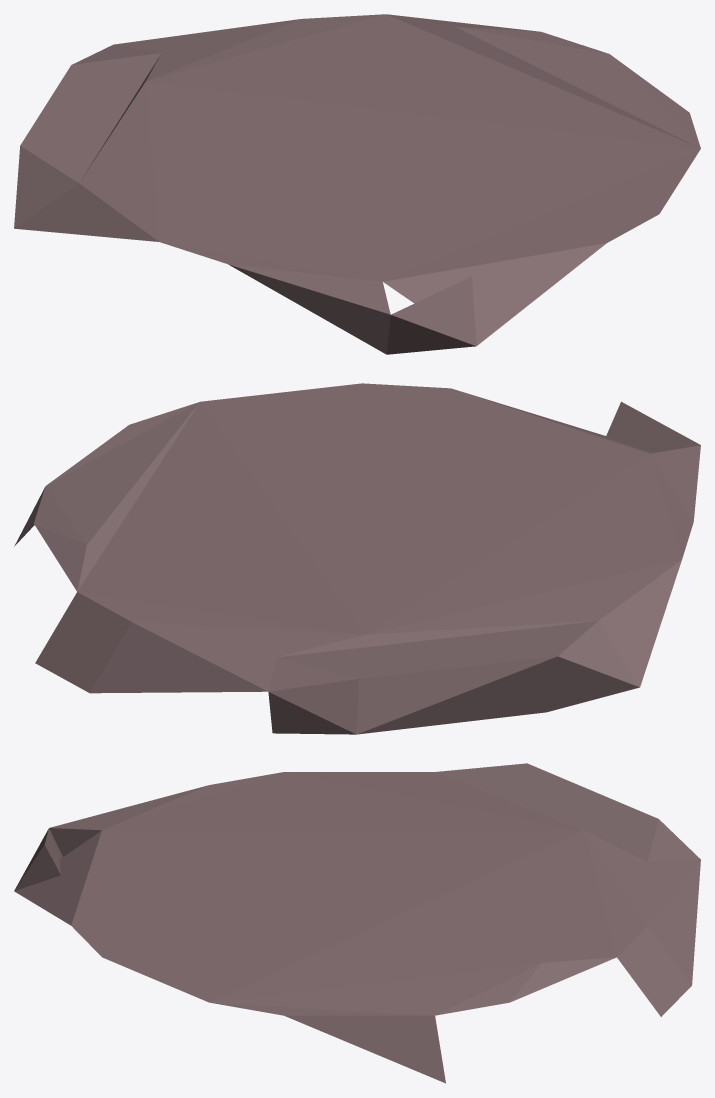
Rendered from trampoline.lod2.glb.
3 views of the same model, one above another, from view 1: azimuth 30°, elevation 25°; view 2: azimuth 150°, elevation 25°; view 3: azimuth 270°, elevation 25° (orthographic). The views are drawn at different scales.
Parts seen in each view (by area): view 1: 0; view 2: 0; view 3: 0.
Part boxes in pixels (box(x1,y1,x2,y2)): 0: box(14, 14, 700, 354); 0: box(14, 383, 700, 734); 0: box(14, 763, 700, 1083).
Size of the model in its own units: 2.94 by 0.3406 by 3.06.
